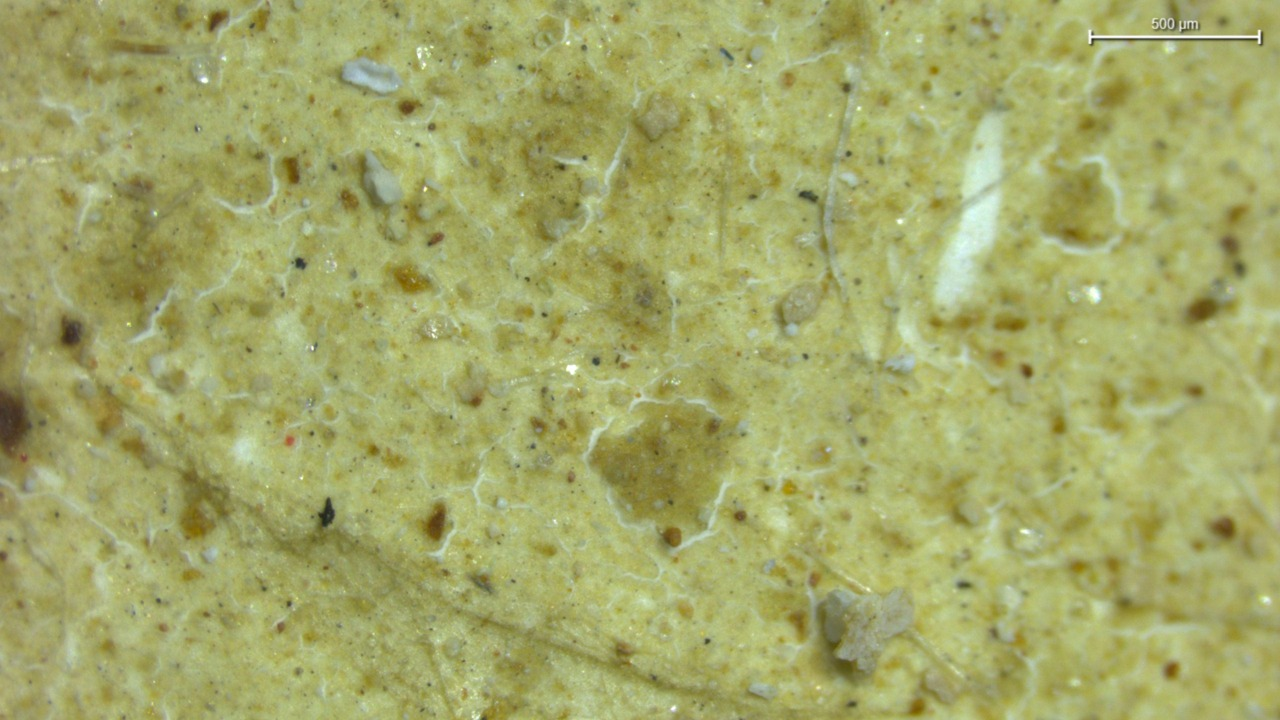microplastic_fragment: (816, 588, 913, 673), (341, 57, 402, 94), (363, 151, 403, 204)
